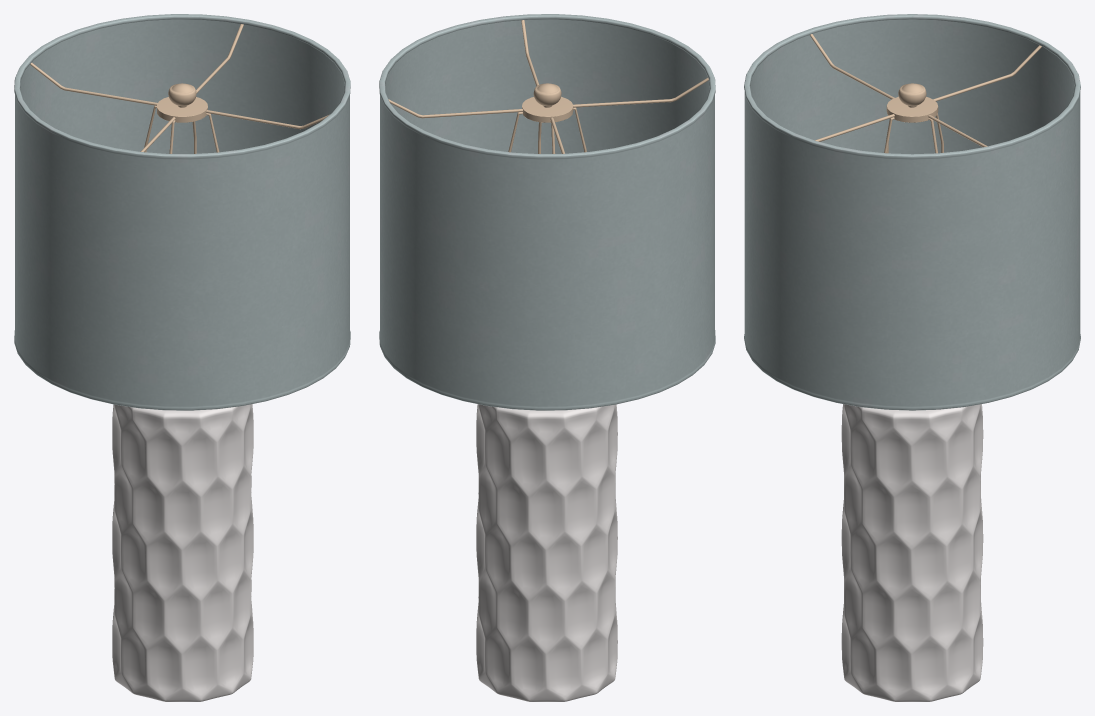
The model's file is lamp_B07DWHQPCQ.glb.
3 renders of one model, left to right at view 1: azimuth 30°, elevation 25°; view 2: azimuth 150°, elevation 25°; view 3: azimuth 270°, elevation 25°, orthographic.
Visible parts, largest first — view 1: RootNode; view 2: RootNode; view 3: RootNode.
Boxes of the visible parts, x1,y1,x2,y2 form: RootNode: (14,14,350,701); RootNode: (379,14,715,701); RootNode: (744,14,1080,701).
Size of the model in its own units: 0.2766 by 0.5341 by 0.2766.
1 material, 1 textured.
